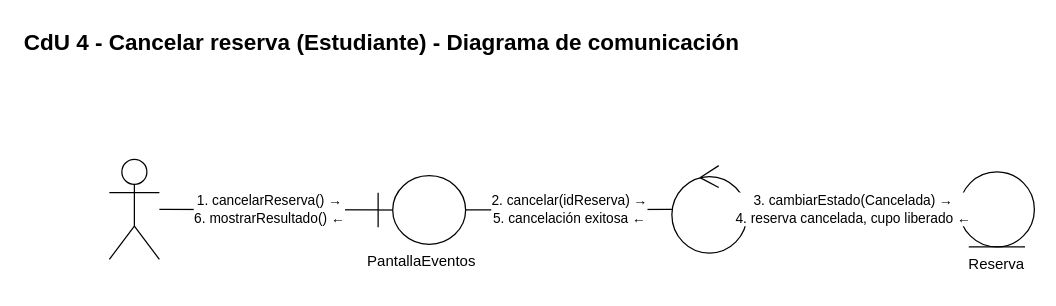
Image size: 1056x306. Some labels were removed from this diagram. Here are the shapes that lost their labels. From the top down, the centre of each, then its label:
At point (133, 208): "Estudiante".
At point (709, 208): "GestiónReserva".
